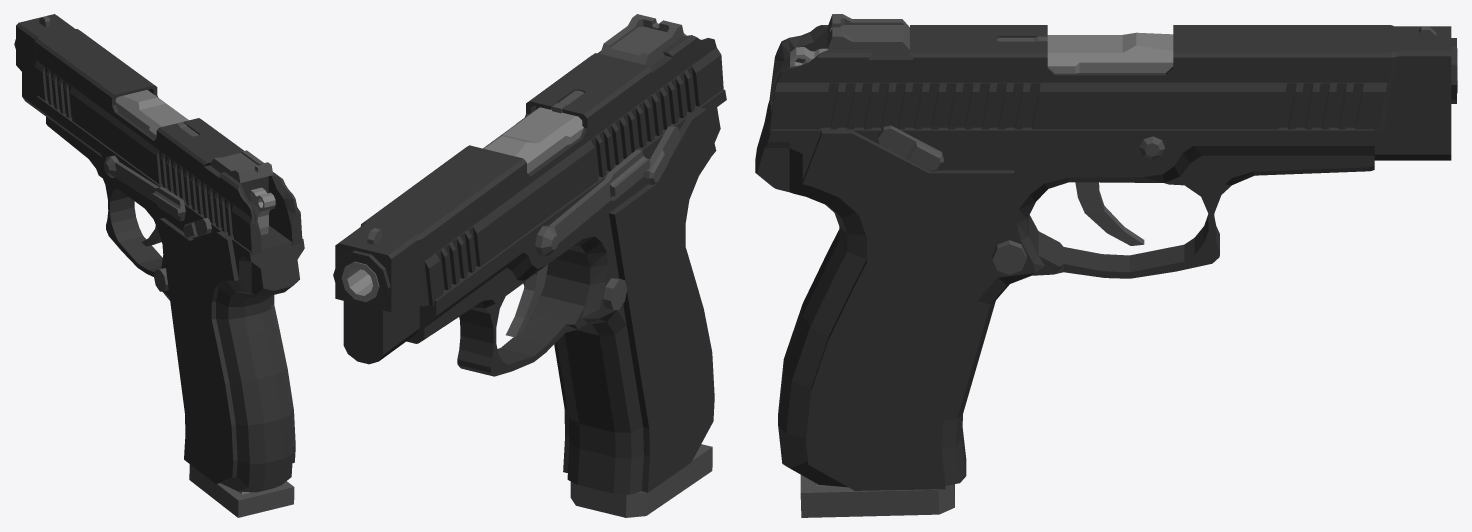
The picture shows the model from 3 angles, left to right: view 1: azimuth 30°, elevation 25°; view 2: azimuth 150°, elevation 25°; view 3: azimuth 270°, elevation 25°; orthographic projection. The views are drawn at different scales.
Parts seen in each view (by area): view 1: MP443, Slide, Magazin, Hammer; view 2: MP443, Slide, Magazin, Trigger; view 3: MP443, Slide, Magazin, Trigger.
Boxes of the visible parts, left/top/right/bottom form: MP443: left=36, top=89, right=304, bottom=492; Slide: left=14, top=14, right=302, bottom=255; Magazin: left=189, top=464, right=294, bottom=517; Hammer: left=250, top=187, right=275, bottom=235; MP443: left=341, top=89, right=726, bottom=494; Slide: left=333, top=14, right=723, bottom=364; Magazin: left=570, top=444, right=712, bottom=517; Trigger: left=506, top=264, right=547, bottom=337; MP443: left=755, top=32, right=1457, bottom=490; Slide: left=769, top=14, right=1456, bottom=160; Magazin: left=800, top=475, right=954, bottom=517; Trigger: left=1075, top=182, right=1144, bottom=245.
Bounding box in the file's own units: 101 × 466 × 628.
Materials: 1 (1 with a texture image).
